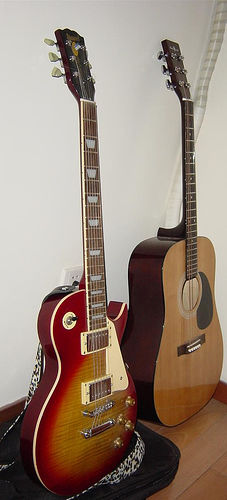guitar: (120, 38, 227, 434)
